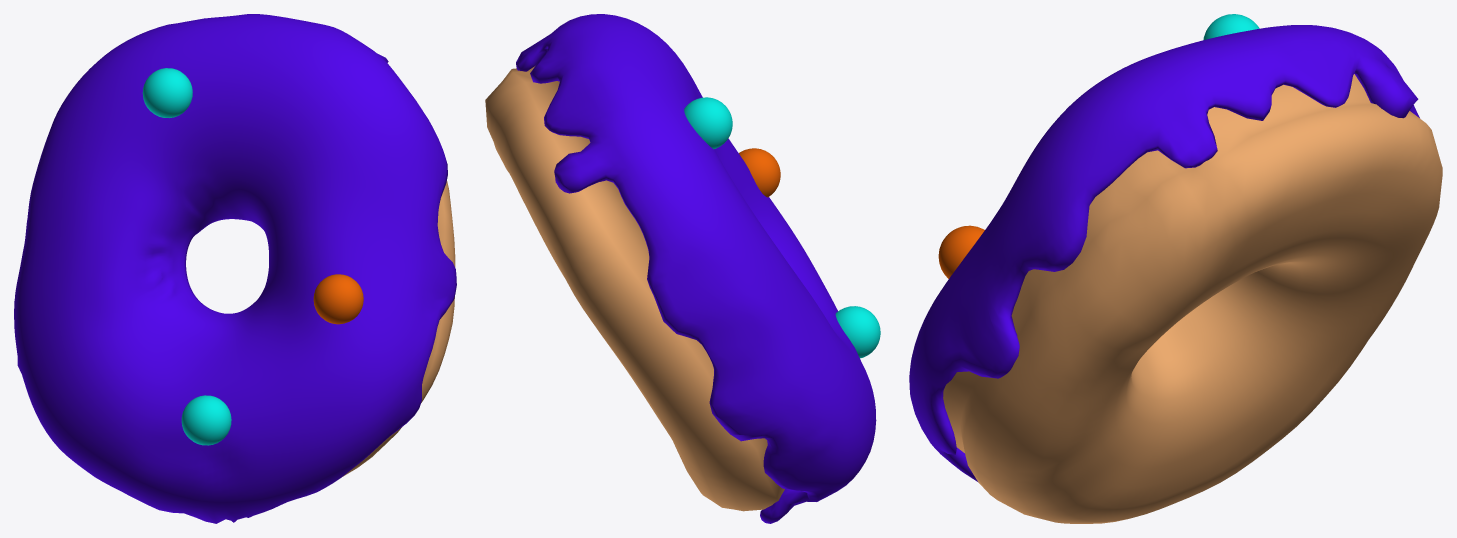
Rendered from DonutExportTest.fbx.
3 views of the same model, side by side, from view 1: azimuth 30°, elevation 25°; view 2: azimuth 150°, elevation 25°; view 3: azimuth 270°, elevation 25° (orthographic). The views are drawn at different scales.
Parts seen in each view (by area): view 1: Icing, Donut, Sphere, Sphere.002, Sphere.001; view 2: Icing, Donut, Sphere.001, Sphere, Sphere.002; view 3: Donut, Icing, Sphere.002, Sphere.001.
Part boxes in pixels (box(x1,y1,x2,y2)): Icing: box(14, 14, 456, 523); Donut: box(343, 181, 455, 476); Sphere: box(181, 395, 231, 445); Sphere.002: box(313, 274, 363, 324); Sphere.001: box(142, 68, 192, 117); Icing: box(516, 14, 876, 523); Donut: box(485, 66, 784, 511); Sphere.001: box(684, 97, 732, 149); Sphere: box(835, 306, 880, 358); Sphere.002: box(739, 148, 780, 197); Donut: box(943, 74, 1442, 523); Icing: box(909, 25, 1419, 481); Sphere.002: box(938, 225, 984, 278); Sphere.001: box(1203, 14, 1259, 40).
Bounding box in the file's own units: 8.35 × 9.62 × 8.76.
